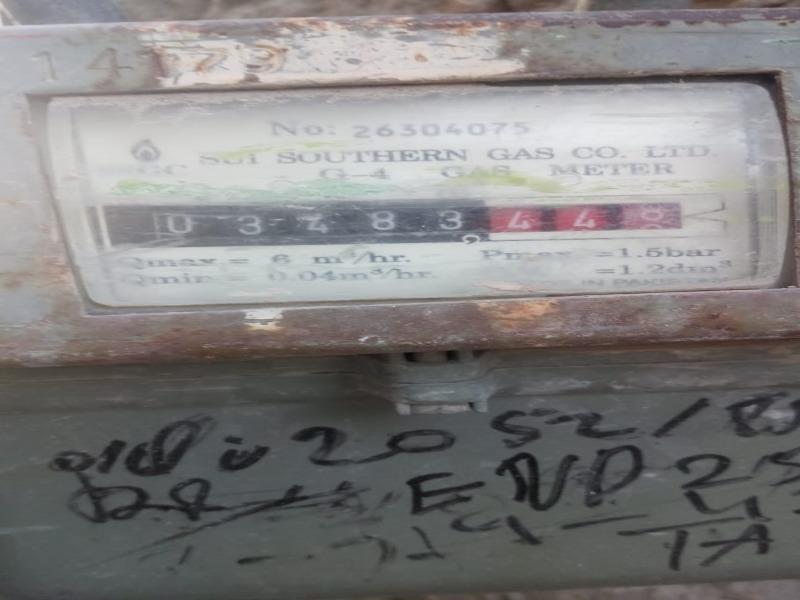ssgc: (104, 199, 695, 237)
